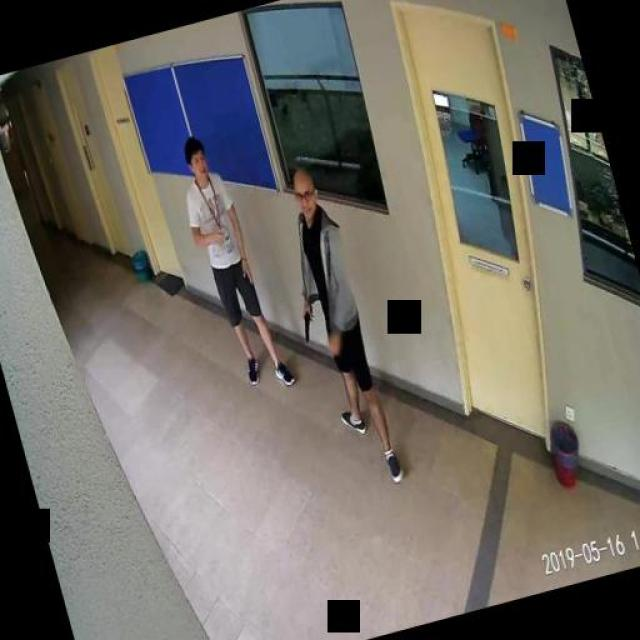gun: (295, 300, 317, 340)
